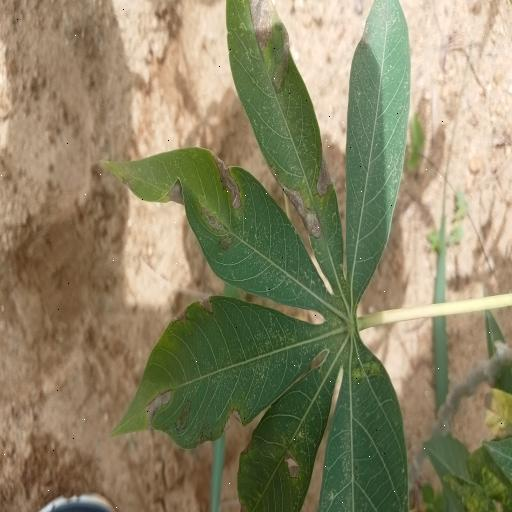Cassava_Brown_Leaf_Spot: (103, 0, 410, 512)
